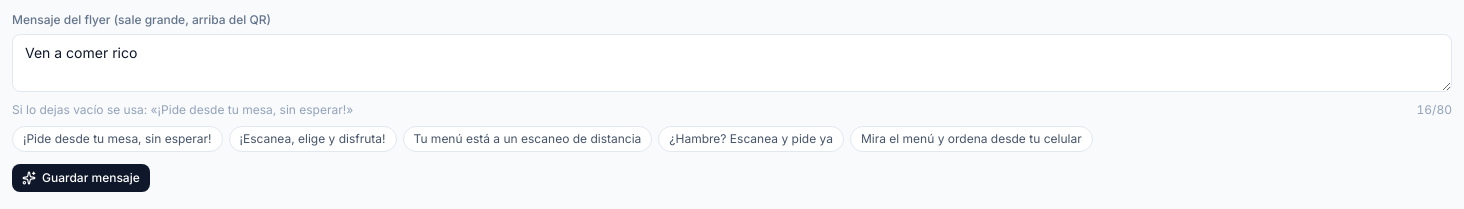
Test: editar el mensaje de la sucursal › muestra el mensaje guardado, el contador y permite elegir una idea con un toque
Expected: the text box labelled "Mensaje del flyer (sale grande, arriba del QR)" holds "Ven a comer rico", [12,34,1452,92]
Click the button "¿Hambre? Escanea y pide ya" at (751, 139), box [658,126,844,152]
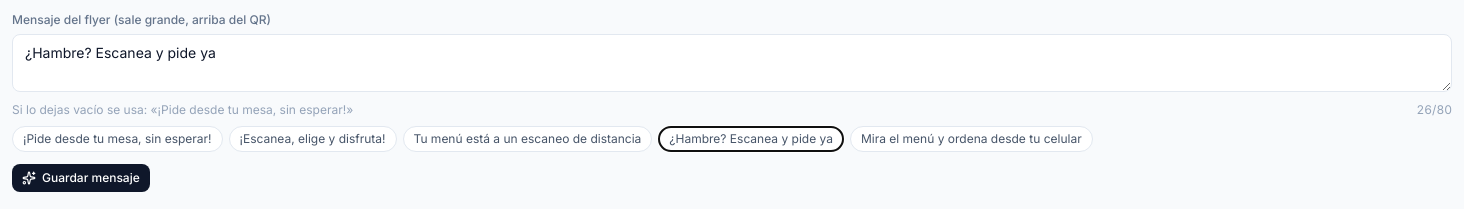
Expected: the text box labelled "Mensaje del flyer (sale grande, arriba del QR)" holds "¿Hambre? Escanea y pide ya", [12,34,1452,92]
